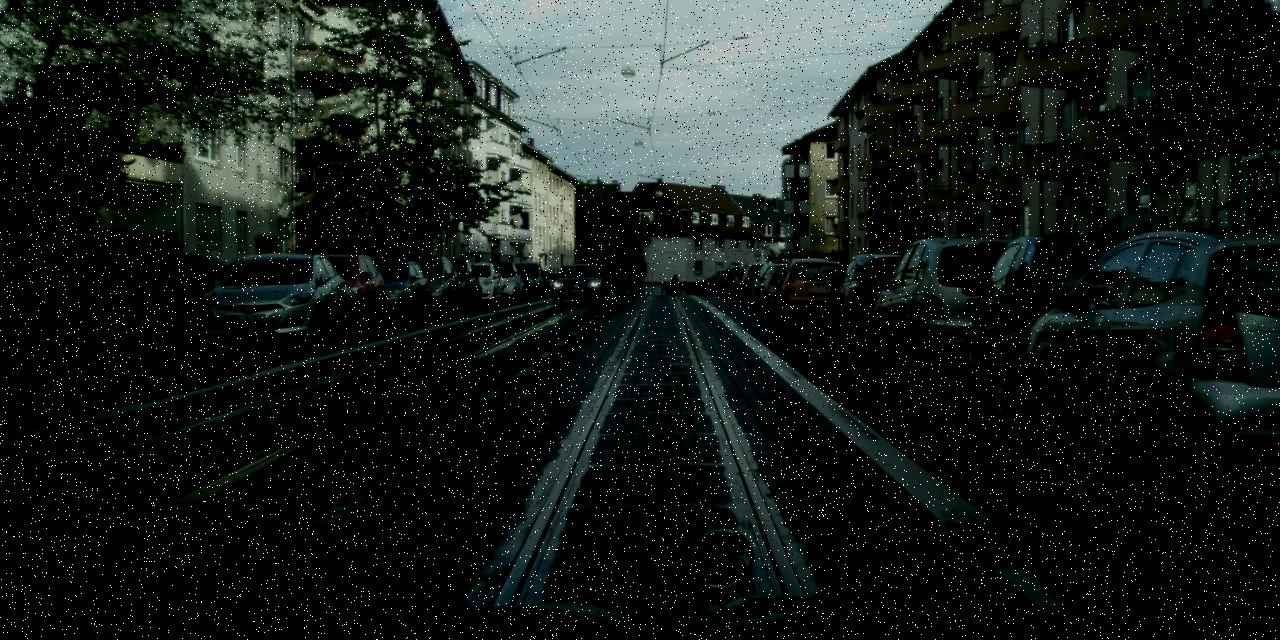ped: (670, 274, 679, 296)
